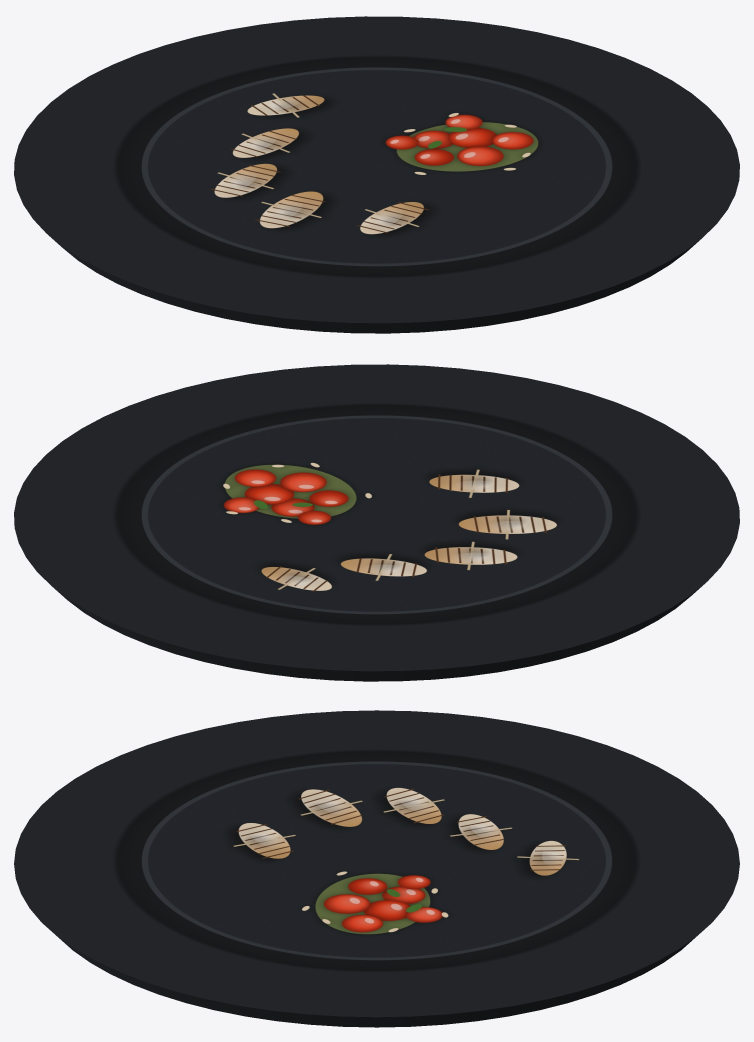
The model's file is grilled_stuffed_calamari_with_roasted_tomatoes_3d.glb.
3 renders of one model, top to bottom at view 1: azimuth 30°, elevation 25°; view 2: azimuth 150°, elevation 25°; view 3: azimuth 270°, elevation 25°, orthographic.
Parts seen in each view (by area): view 1: Food_Dish_Mesh, Plate_Mesh; view 2: Food_Dish_Mesh, Plate_Mesh; view 3: Food_Dish_Mesh, Plate_Mesh.
Part boxes in pixels (x1,y1,x2,y2): Food_Dish_Mesh: (113,55,640,278); Plate_Mesh: (14,16,739,333); Food_Dish_Mesh: (113,403,640,625); Plate_Mesh: (14,364,739,681); Food_Dish_Mesh: (113,749,640,971); Plate_Mesh: (14,710,739,1027).
Bounding box in the file's own units: 4.4 × 0.14 × 4.4.
Materials: 2 (1 with a texture image).
